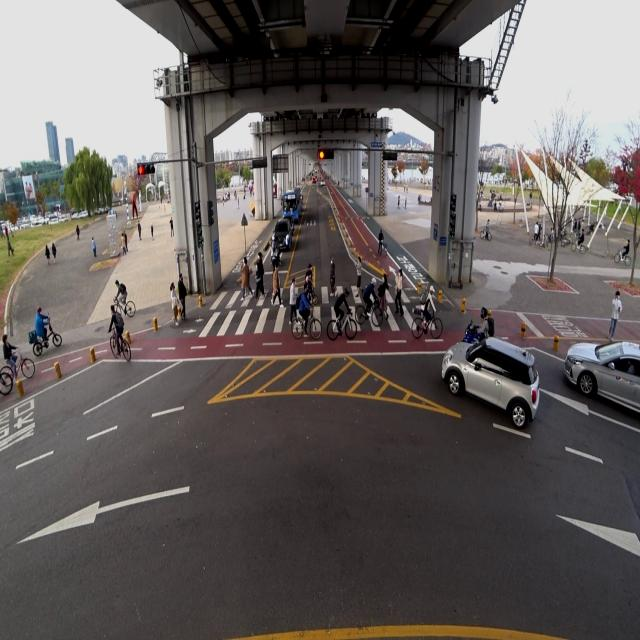Bus: (280, 182, 302, 226)
Car: (435, 330, 545, 435), (562, 324, 640, 421), (272, 219, 292, 253), (282, 212, 295, 232)
Motorcycle: (458, 303, 497, 347), (268, 232, 281, 270)
